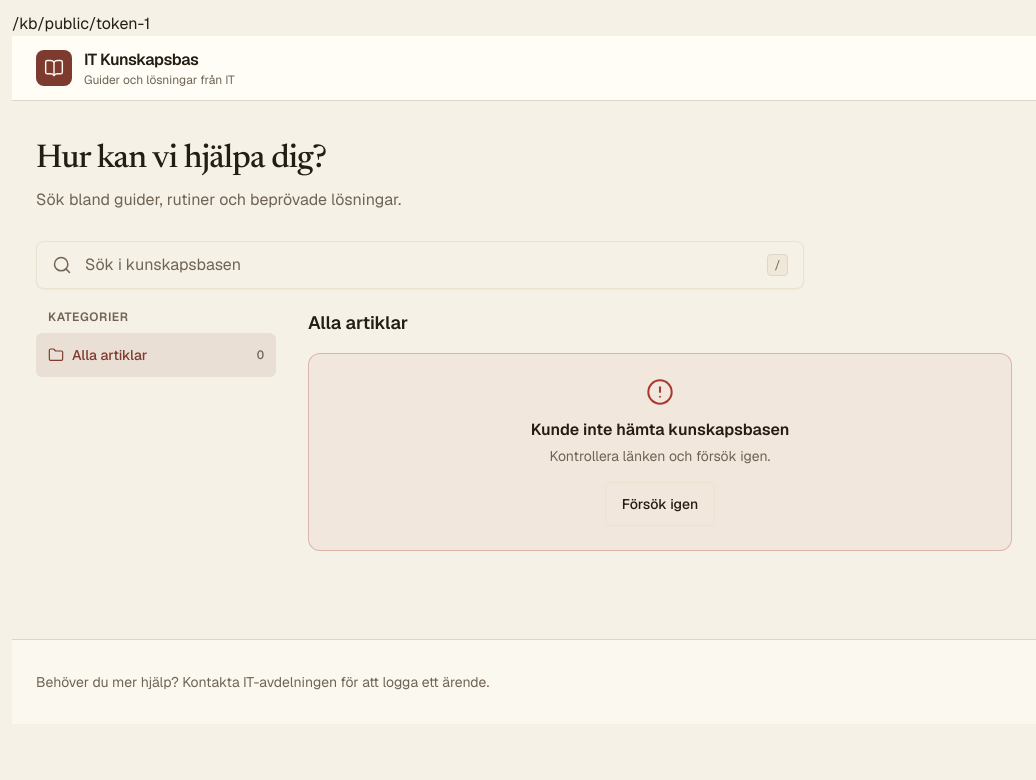
Test case: PublicKnowledgeBase › ignorerar ett sent svar från försöket före retry
Expected: the heading "Kunde inte hämta kunskapsbasen" is shown, [531,419,789,440]
What coordinates should you click on to do the following:
click the button "Försök igen"
I would click on:
 (660, 504)
Its box is [605,482,715,526].
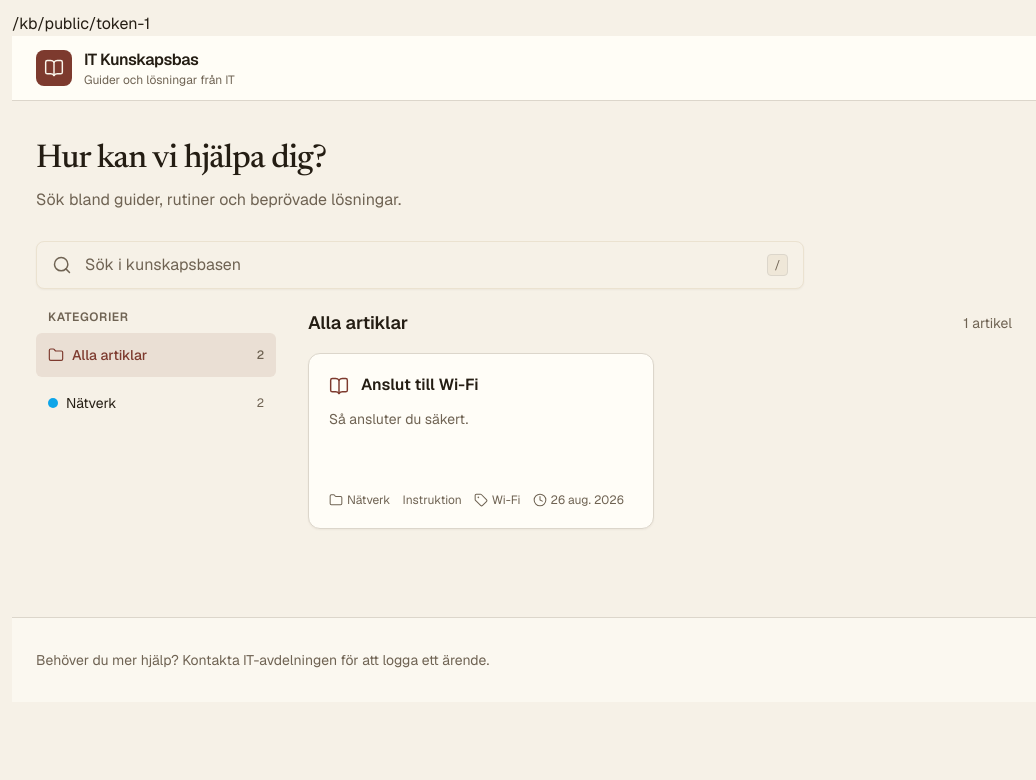
Expected: the link "Anslut till Wi-Fi" is shown, [308,353,654,529]
Expected: the button "Nätverk 2" is shown, [36,381,276,425]
